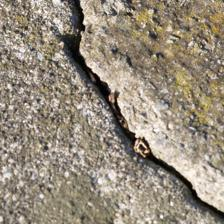Crack: (31, 3, 192, 214)
